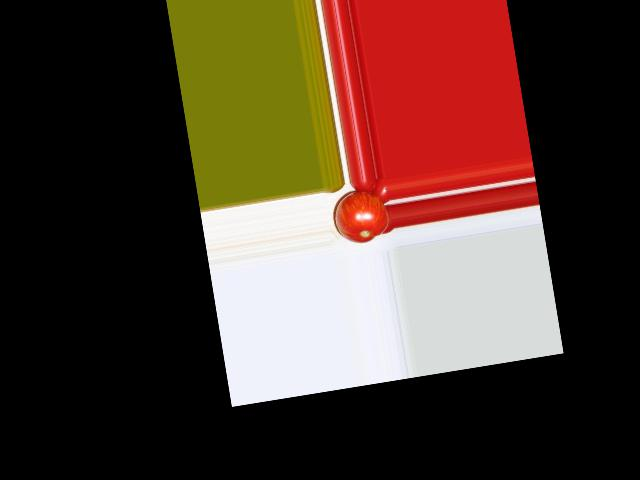tomato: (331, 186, 392, 247)
